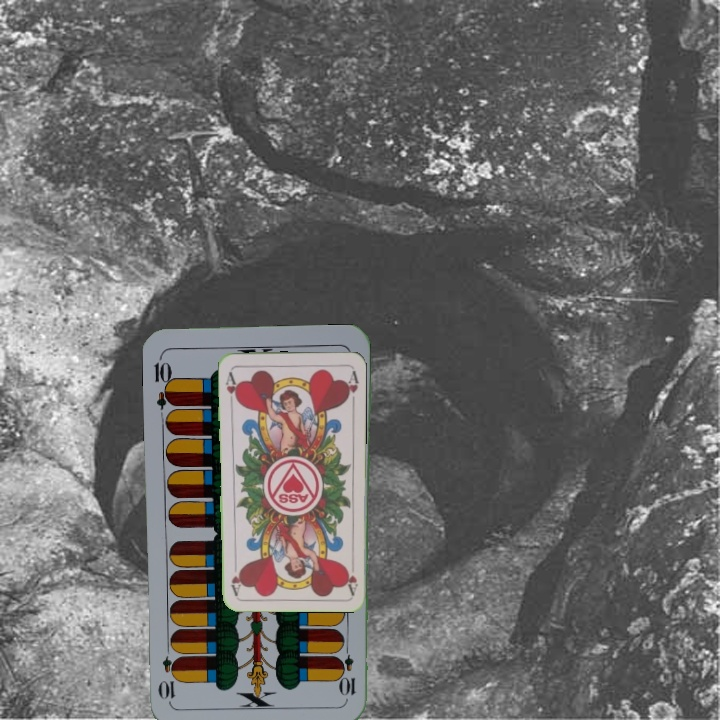E10: (150, 352, 177, 411), (339, 639, 358, 698)
HA: (222, 368, 241, 407), (341, 562, 360, 596)
